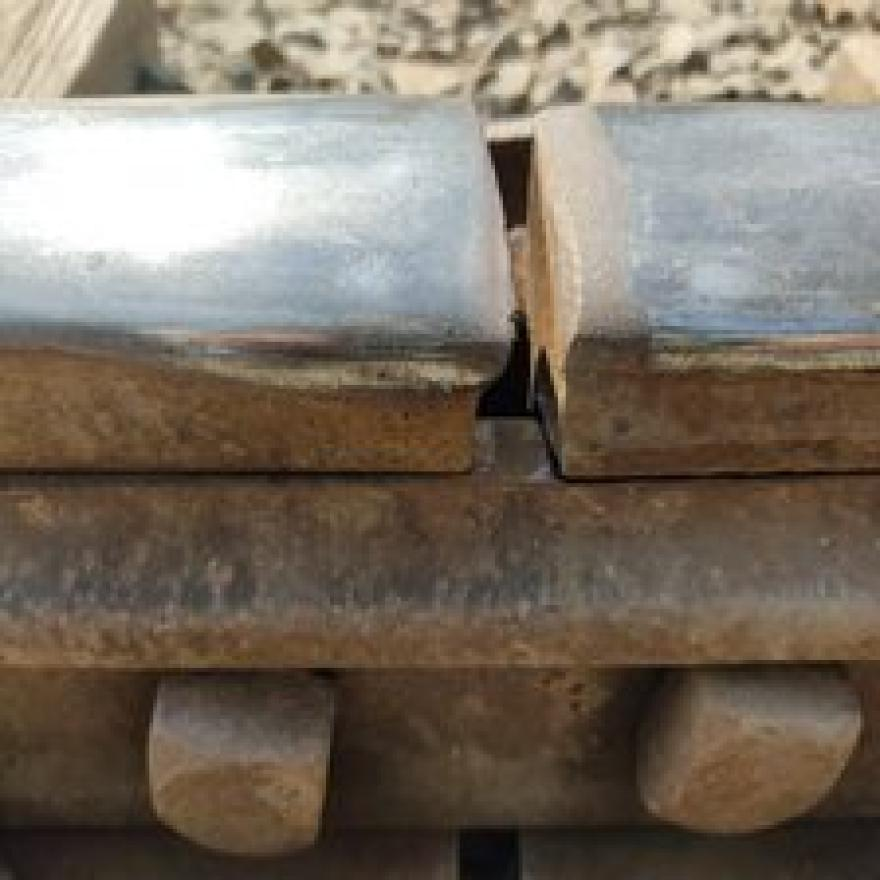railway-gap: (273, 24, 769, 562)
